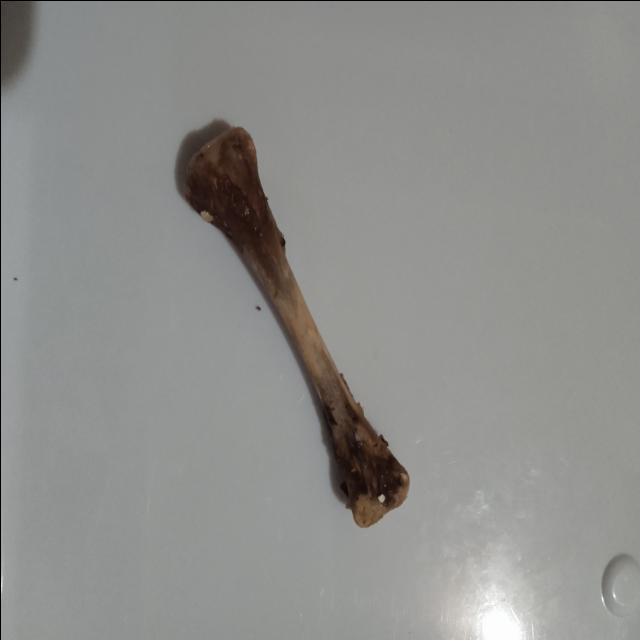bone: (165, 98, 426, 552)
